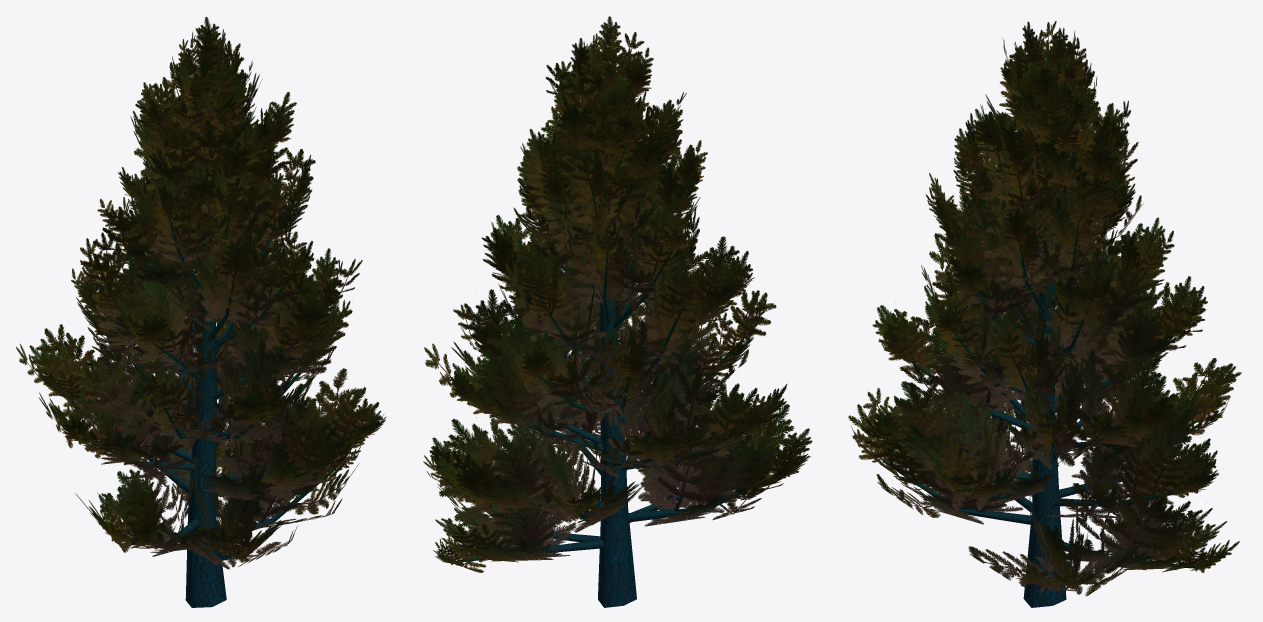
File: Picea_Abies_E.glb
3 renders of one model, left to right at view 1: azimuth 30°, elevation 25°; view 2: azimuth 150°, elevation 25°; view 3: azimuth 270°, elevation 25°, orthographic.
Visible parts, largest first — view 1: E_LOD0; view 2: E_LOD0; view 3: E_LOD0.
Part boxes in pixels (box(x1,y1,x2,y2)): E_LOD0: box(16, 17, 386, 607); E_LOD0: box(423, 16, 812, 607); E_LOD0: box(848, 21, 1241, 607).
Size of what is drawn, in the model's own units: 5.74 by 9.14 by 5.69.
Materials: 2 (2 with a texture image).
